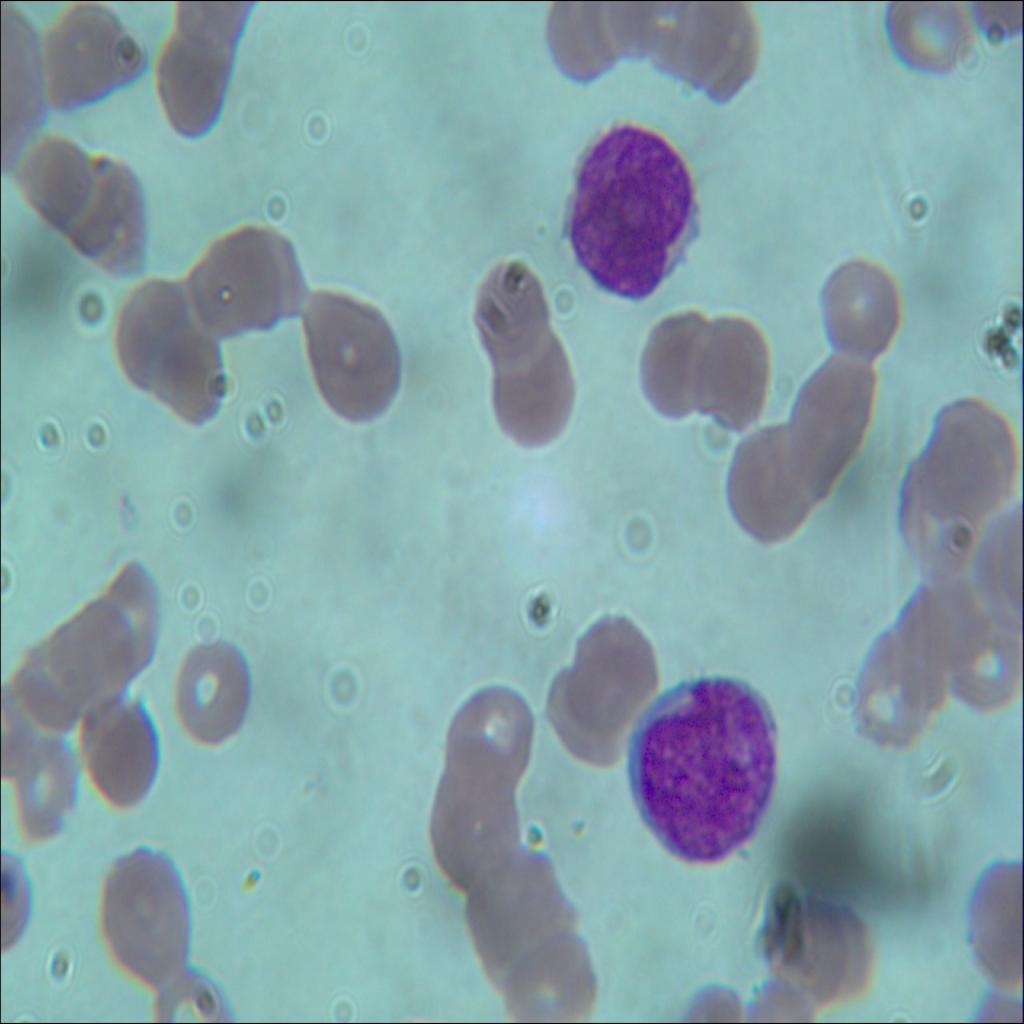Eritrosit: (118, 271, 235, 424), (310, 280, 418, 424), (96, 840, 198, 989), (926, 399, 1023, 534), (424, 761, 526, 884), (198, 225, 312, 332), (463, 840, 569, 954), (150, 26, 248, 147), (888, 462, 976, 584), (491, 331, 583, 447), (731, 420, 815, 545), (83, 694, 161, 824), (793, 358, 878, 477), (70, 167, 156, 284), (443, 690, 536, 798), (39, 0, 135, 103), (846, 612, 920, 745), (768, 897, 862, 997), (512, 917, 598, 1023), (566, 622, 664, 715), (469, 262, 551, 372), (178, 642, 260, 752), (696, 305, 769, 426), (548, 664, 626, 774), (824, 254, 898, 365), (686, 0, 764, 105), (908, 581, 975, 698), (26, 132, 102, 235), (639, 307, 704, 425), (55, 604, 134, 698), (18, 638, 92, 738), (15, 730, 78, 844), (879, 0, 980, 71), (946, 619, 1023, 710), (98, 565, 163, 671), (648, 0, 723, 85), (548, 1, 618, 92), (604, 0, 670, 64)
Limfoblast: (618, 668, 788, 865), (564, 127, 710, 292)
